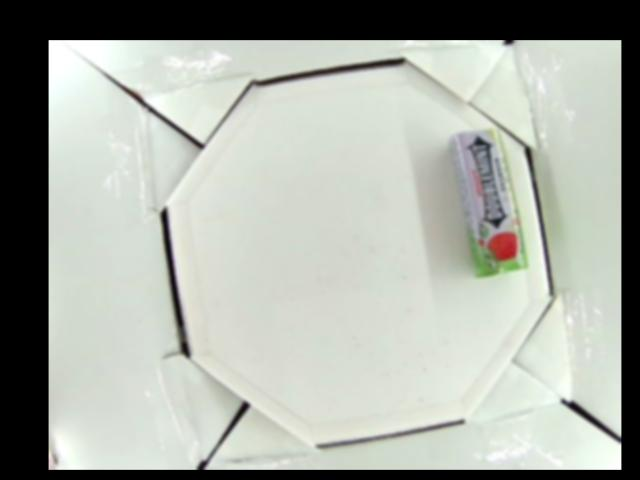Bottle: (447, 127, 530, 280)
